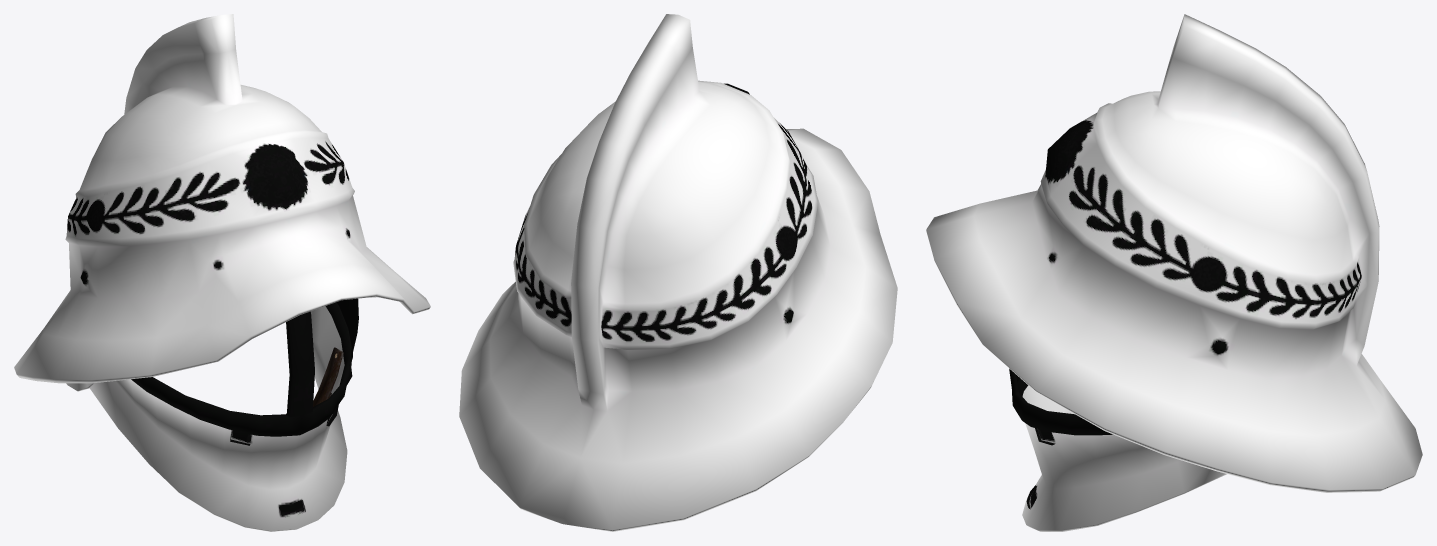
The model's file is SurvivorMale_Head_Helmet_Gladiator_LOD0.glb.
The picture shows the model from 3 angles, left to right: view 1: azimuth 30°, elevation 25°; view 2: azimuth 150°, elevation 25°; view 3: azimuth 270°, elevation 25°; orthographic projection. The views are drawn at different scales.
Parts seen in each view (by area): view 1: Hoodie; view 2: Hoodie; view 3: Hoodie.
Boxes of the visible parts, bbox=[...] form: Hoodie: bbox=[14, 14, 430, 531]; Hoodie: bbox=[459, 14, 897, 531]; Hoodie: bbox=[926, 14, 1422, 531].
Bounding box in the file's own units: 0.2924 × 0.366 × 0.3302.
1 material, 1 textured.
